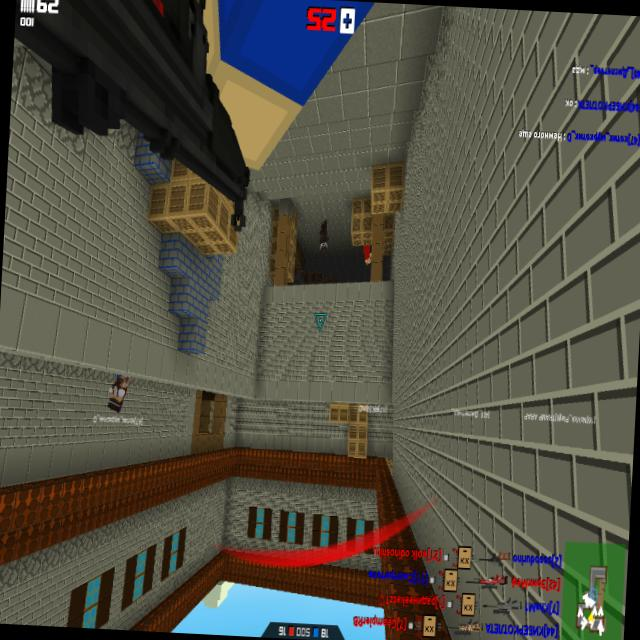enemy: (319, 219, 330, 253), (362, 245, 372, 268)
